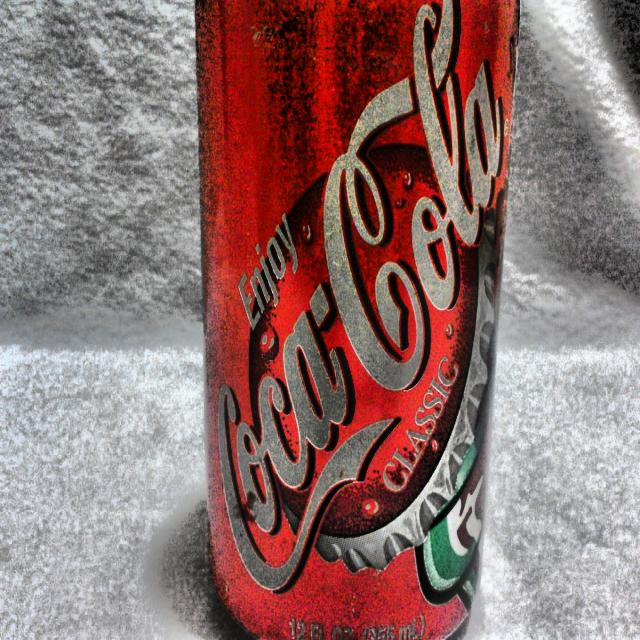Cans: (192, 0, 501, 640)
